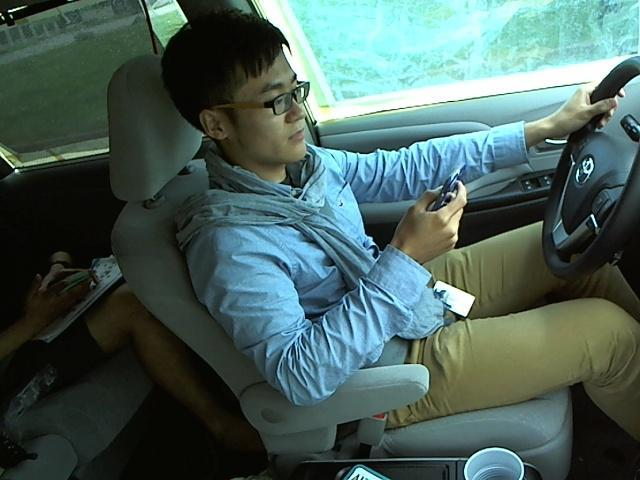PhoneUse: (432, 156, 469, 234)
